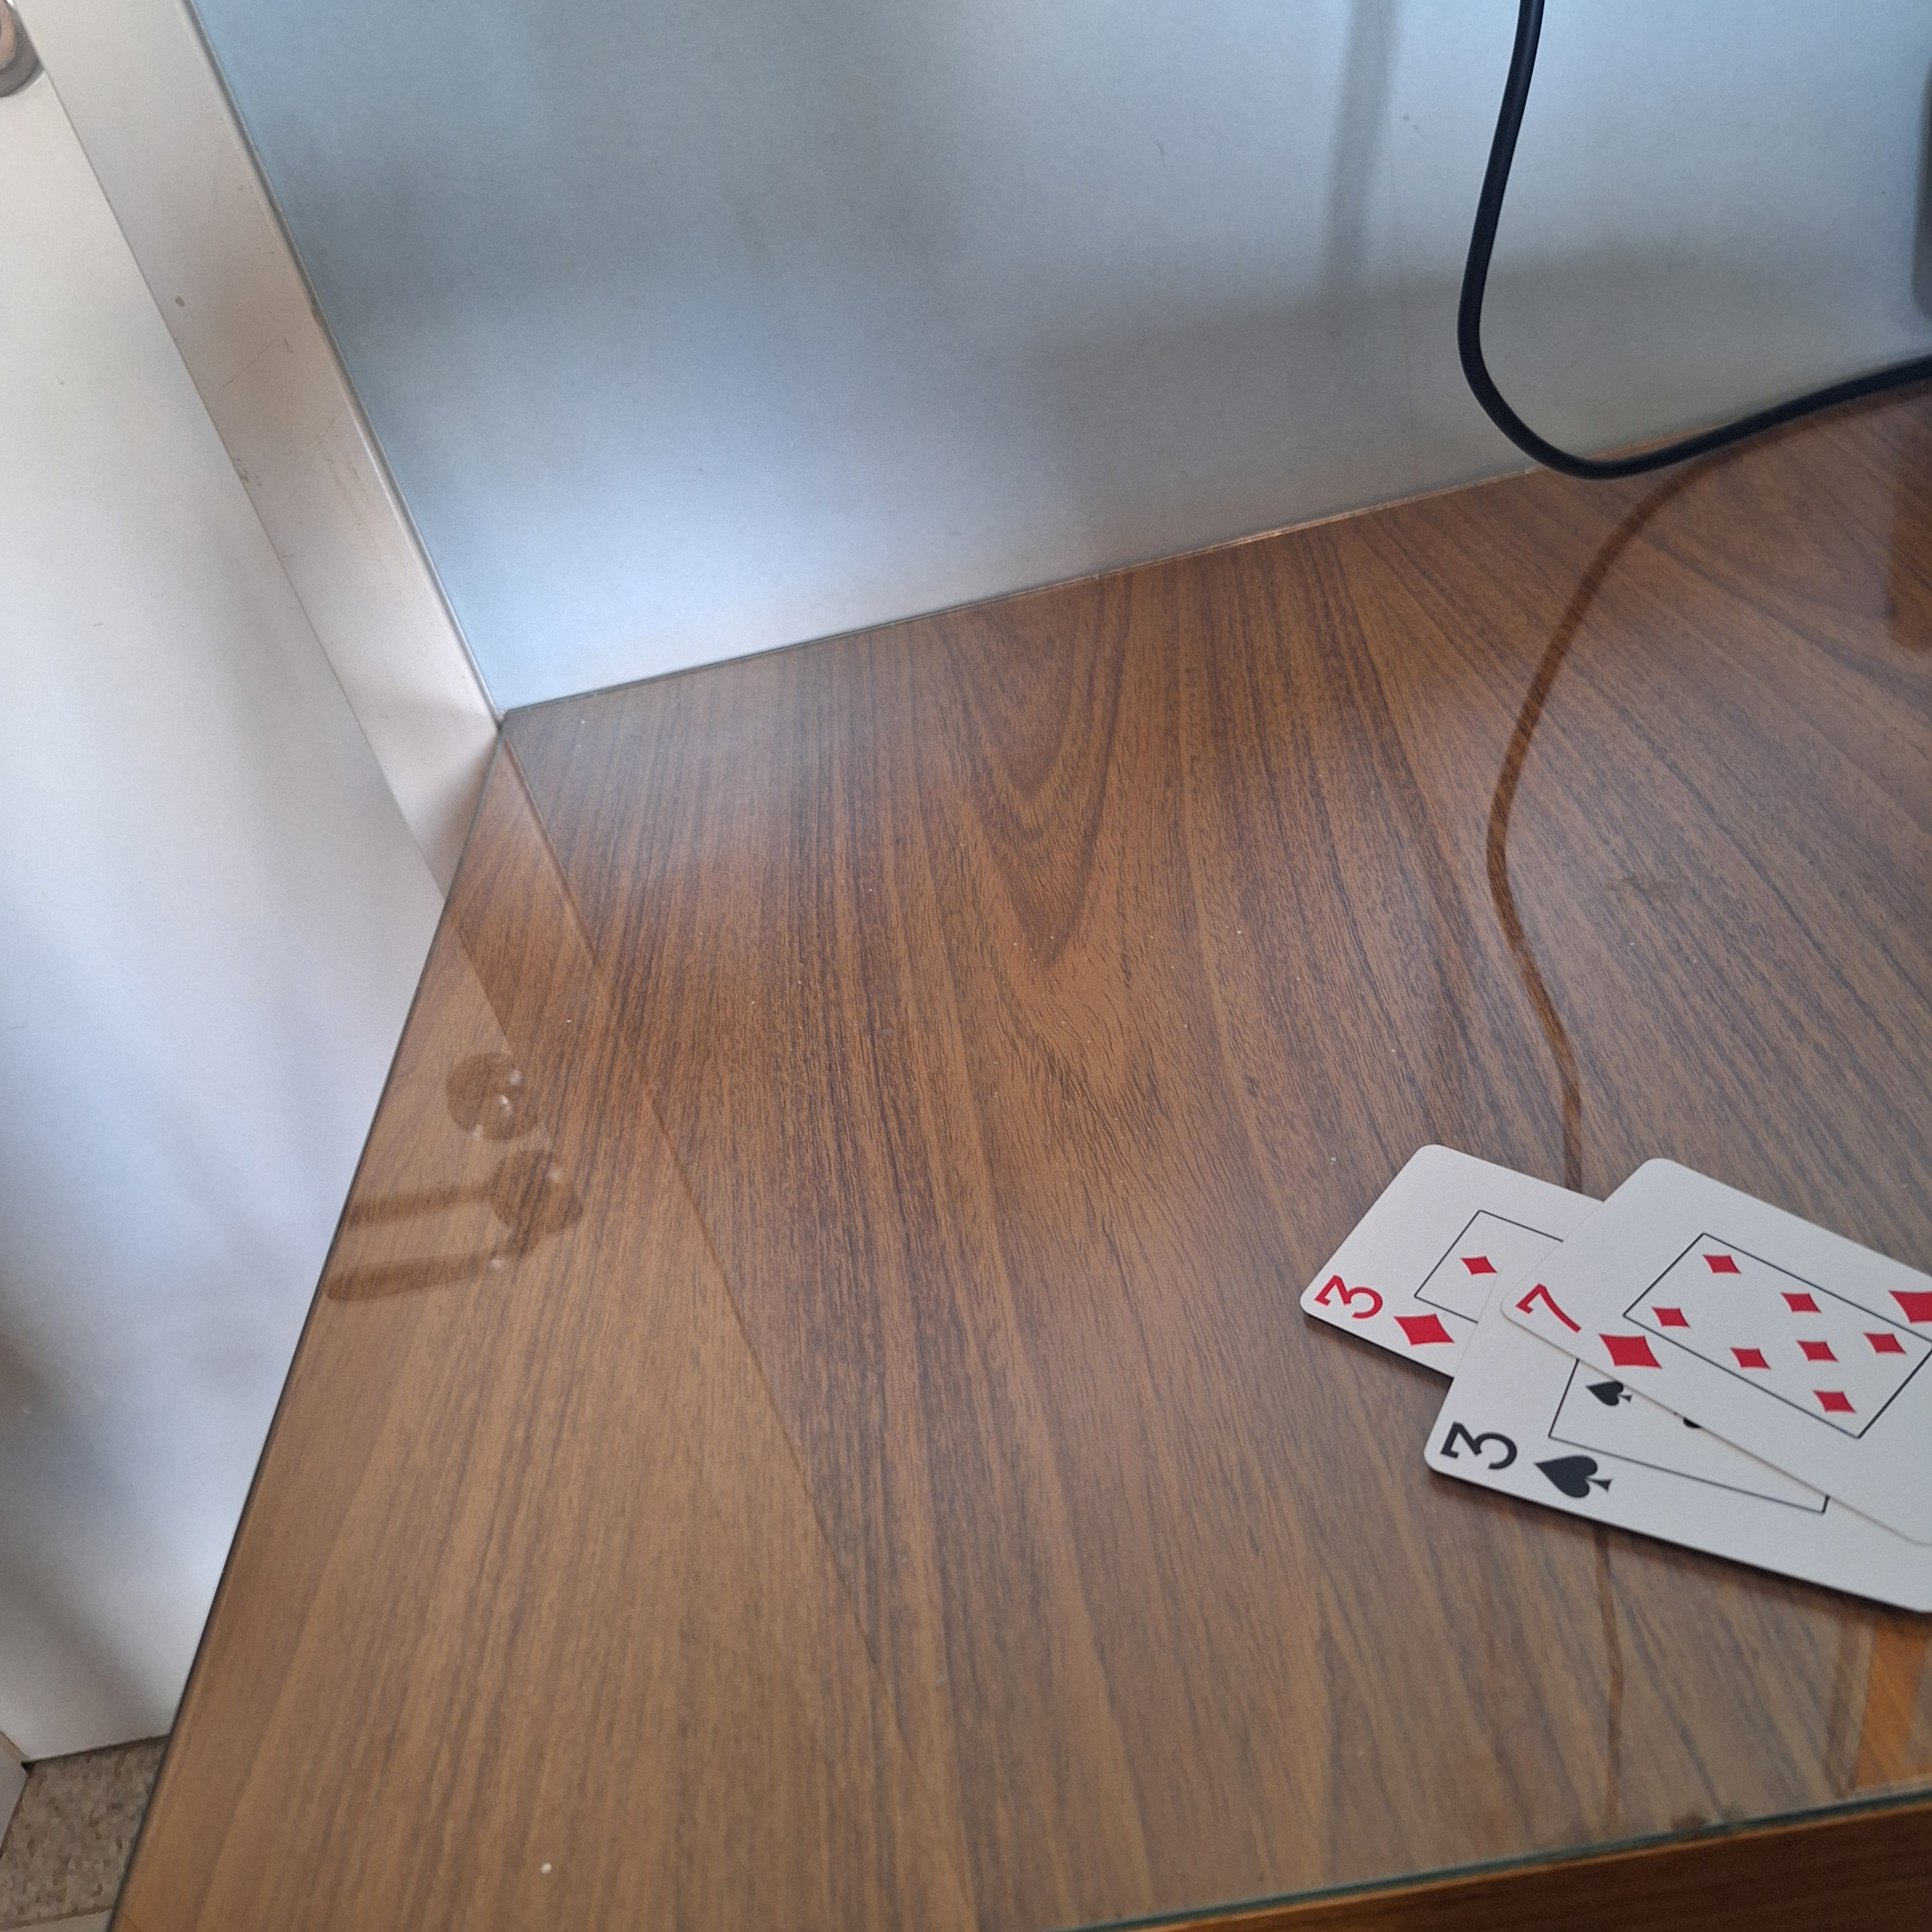3E: (1435, 1407, 1619, 1522)
3O: (1309, 1249, 1460, 1368)
7O: (1507, 1276, 1665, 1382)
